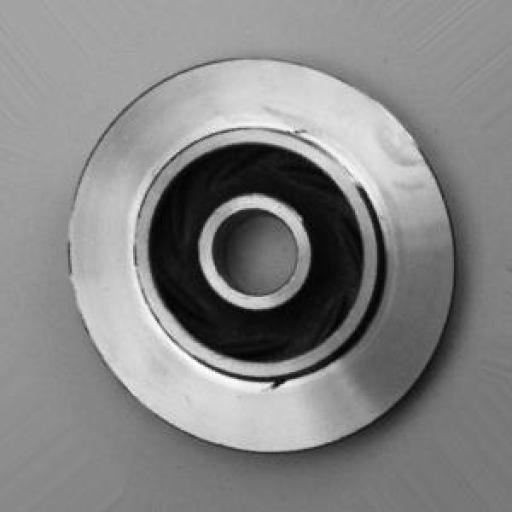defect: (248, 103, 344, 168), (222, 353, 306, 426)
